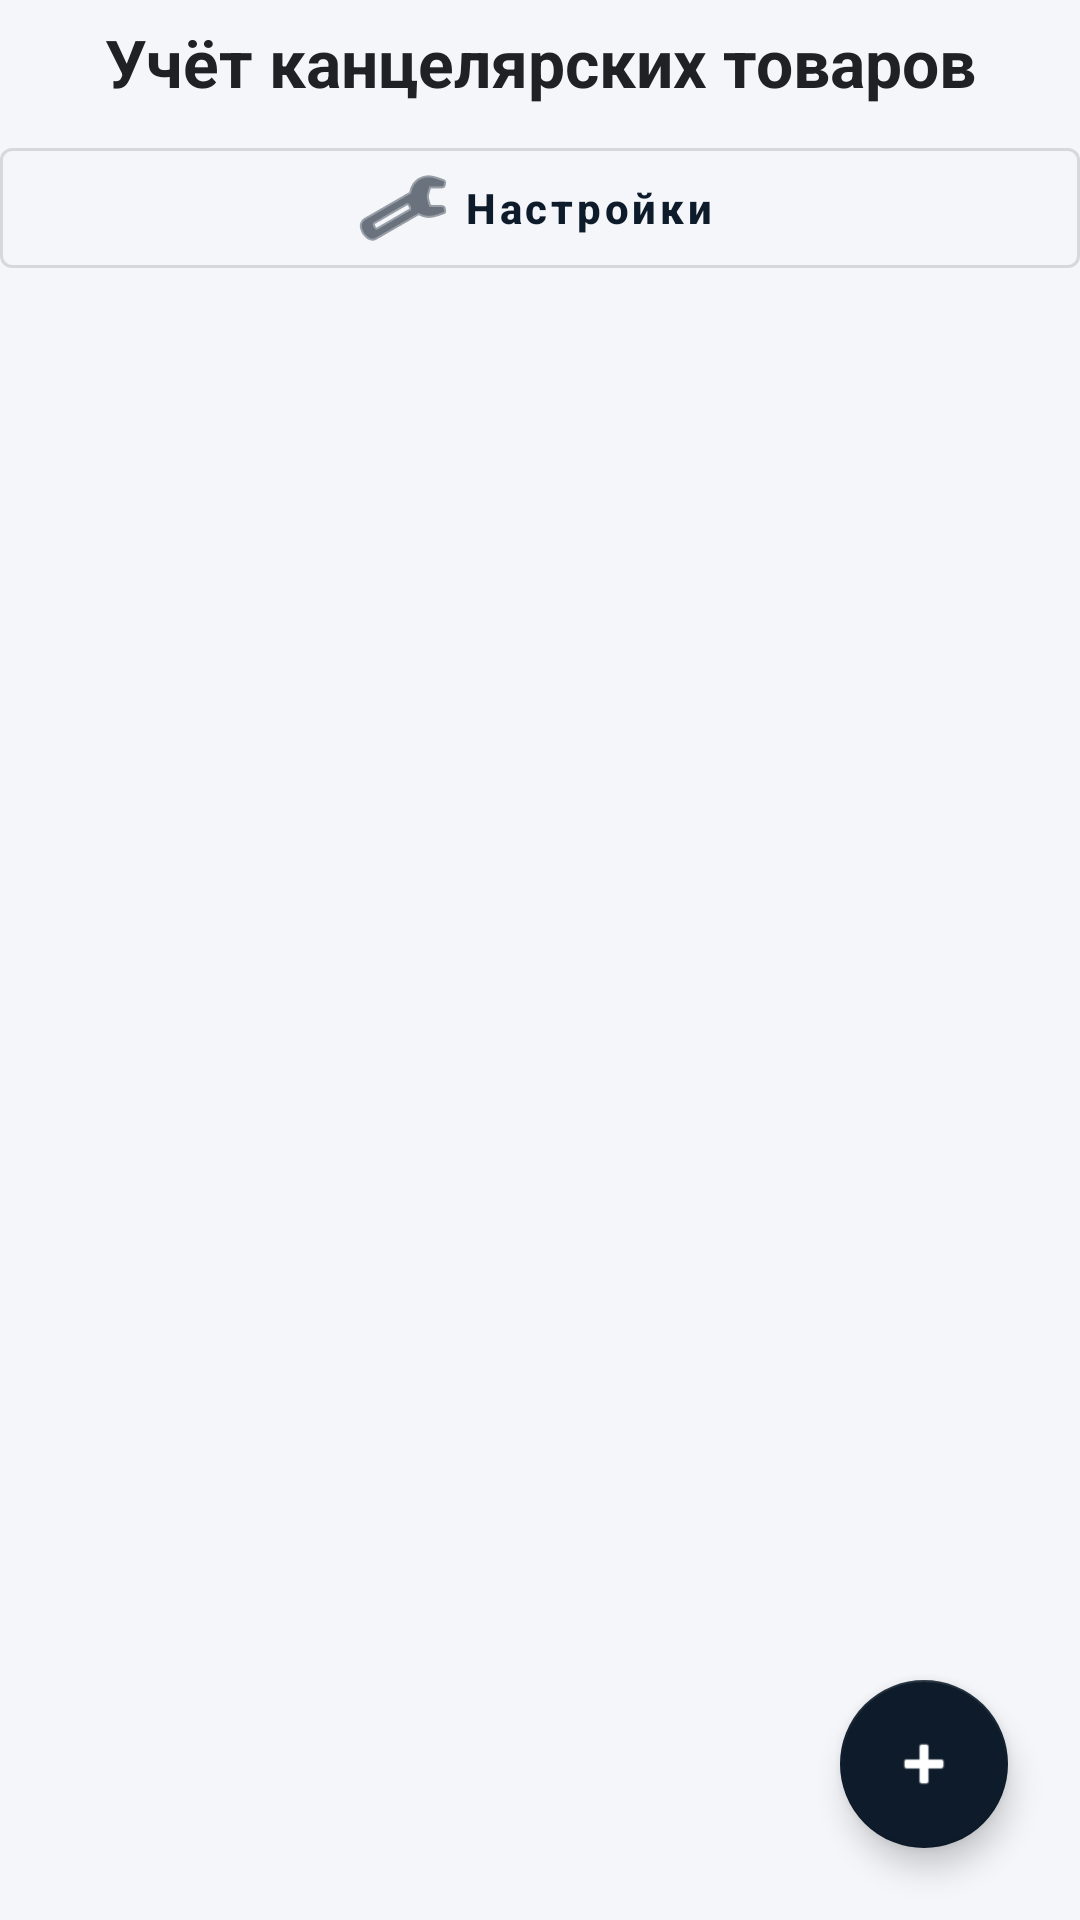

Icons on this 1080x1920 Android screen, each with its box as bbox=[x1, y1, x2, y2]:
Добавить товар: bbox=[840, 1680, 1008, 1848]
